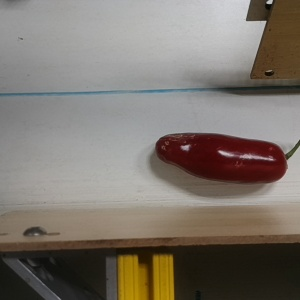Cut Point: (268, 141, 298, 181)
